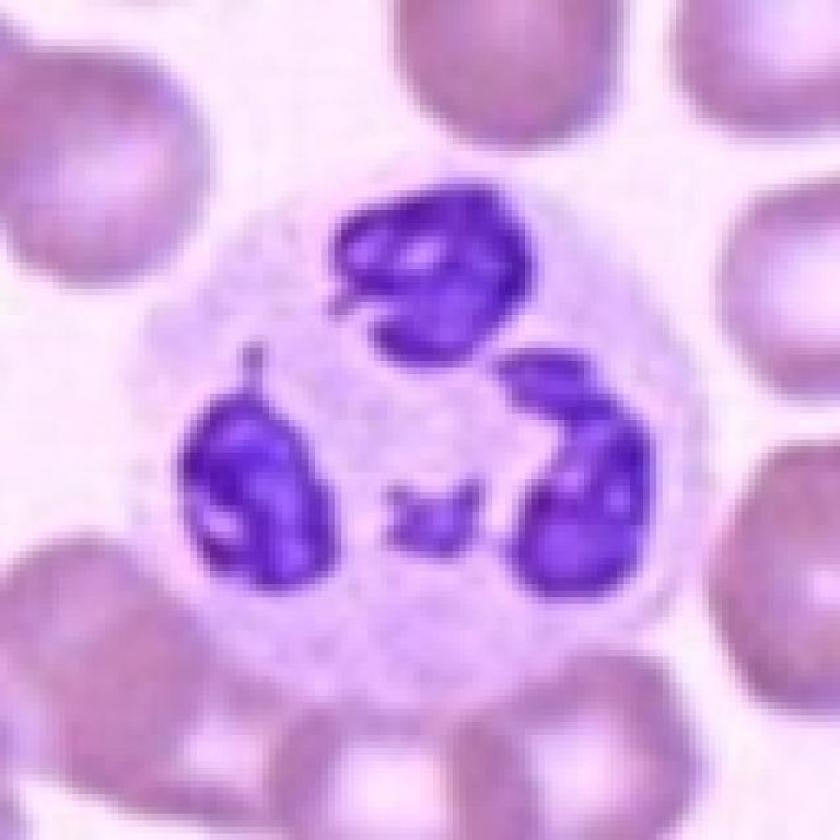neutrophil: (110, 166, 716, 677)
